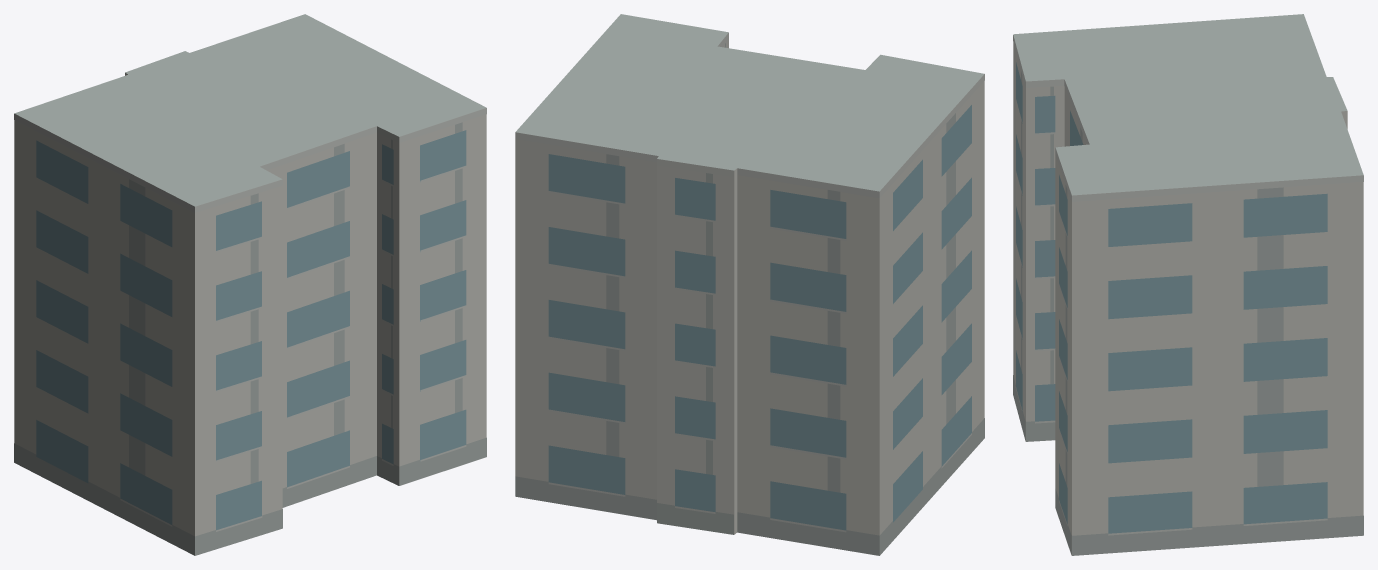
File: survey-upis-33035546.glb
The picture shows the model from 3 angles, left to right: view 1: azimuth 30°, elevation 25°; view 2: azimuth 150°, elevation 25°; view 3: azimuth 270°, elevation 25°; orthographic projection. The views are drawn at different scales.
Visible parts, largest first — view 1: survey-upis-33035546.tmp; view 2: survey-upis-33035546.tmp; view 3: survey-upis-33035546.tmp.
Boxes of the visible parts, x1,y1,x2,y2 form: survey-upis-33035546.tmp: (14,14,486,555); survey-upis-33035546.tmp: (515,14,984,555); survey-upis-33035546.tmp: (1013,14,1363,555).
Bounding box in the file's own units: 14.32 × 13.25 × 11.7.
